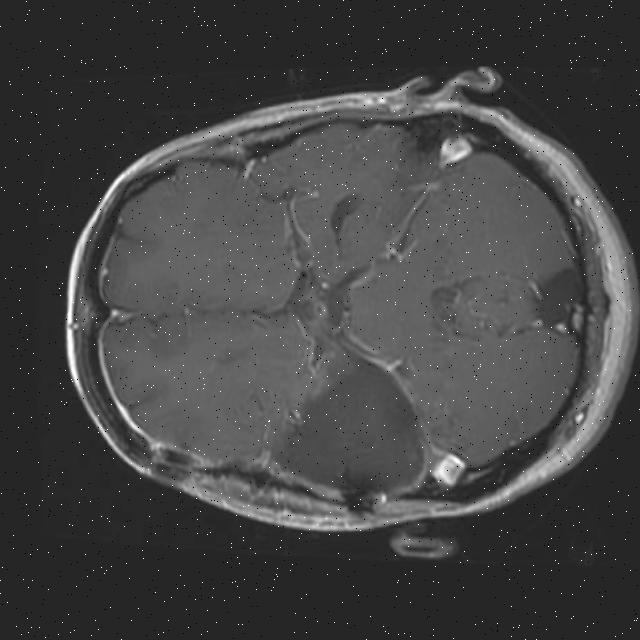Glioma: (263, 353, 434, 502)
